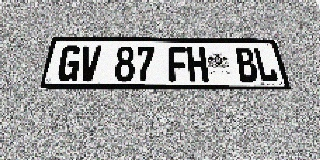7: (135, 46, 155, 82)
8: (114, 46, 135, 81)
B: (234, 47, 259, 82)
F: (168, 47, 189, 82)
G: (56, 46, 82, 81)
H: (187, 47, 209, 82)
L: (252, 48, 279, 82)
V: (77, 46, 102, 81)
